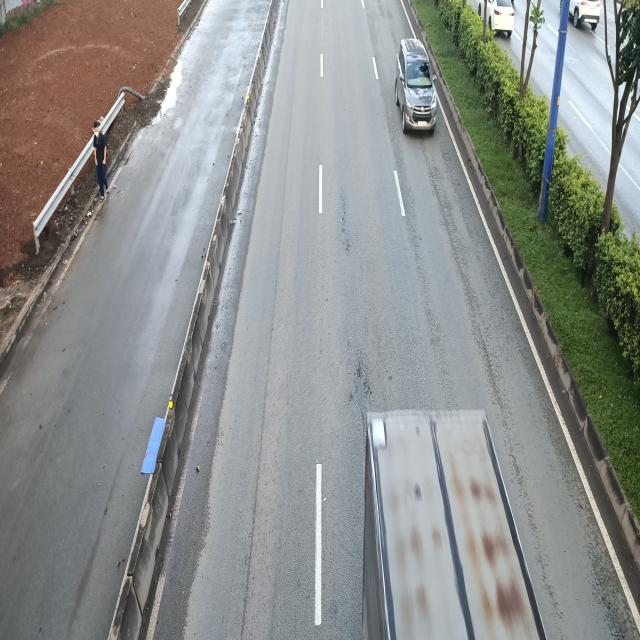car: (397, 38, 438, 134)
